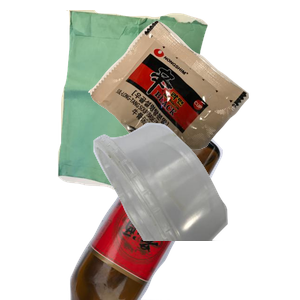glass: (67, 120, 282, 300)
paper: (55, 10, 255, 190)
plastic: (91, 120, 300, 300)
trash: (86, 18, 300, 194)
